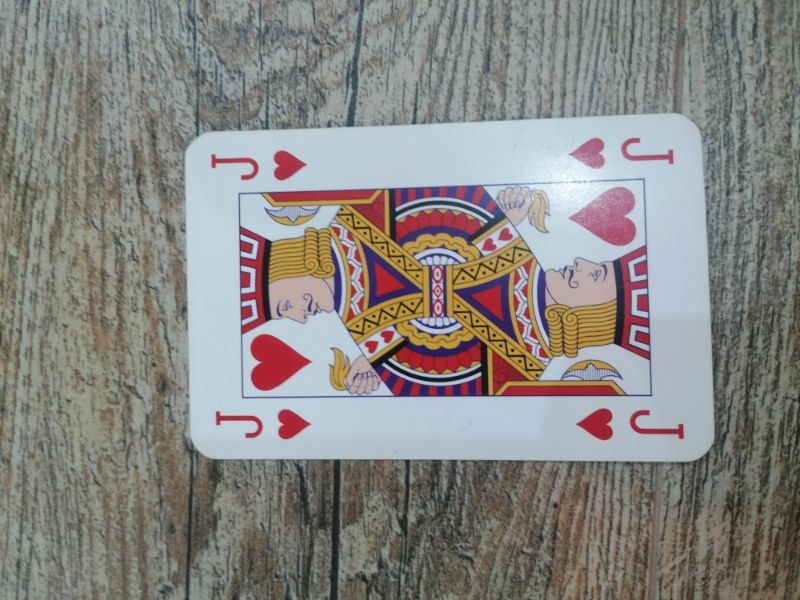Jh: (572, 400, 692, 449), (208, 405, 322, 448), (204, 143, 311, 187), (565, 134, 681, 174)
